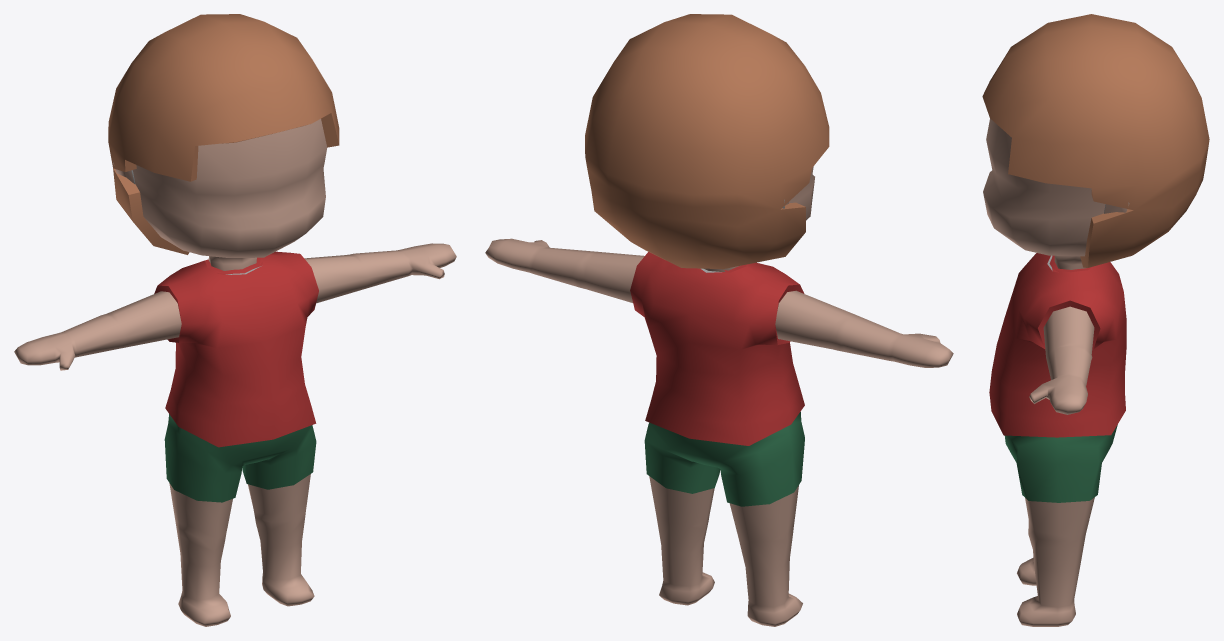
The model's file is Character.fbx.
3 views of the same model, side by side, from view 1: azimuth 30°, elevation 25°; view 2: azimuth 150°, elevation 25°; view 3: azimuth 270°, elevation 25° (orthographic). The views are drawn at different scales.
Visible parts, largest first — view 1: pCube7; view 2: pCube7; view 3: pCube7.
Part boxes in pixels (x1,y1,x2,y2): pCube7: (14, 14, 456, 626); pCube7: (485, 14, 953, 626); pCube7: (982, 14, 1209, 626).
Bounding box in the file's own units: 2.22 × 2.76 × 0.9921.
